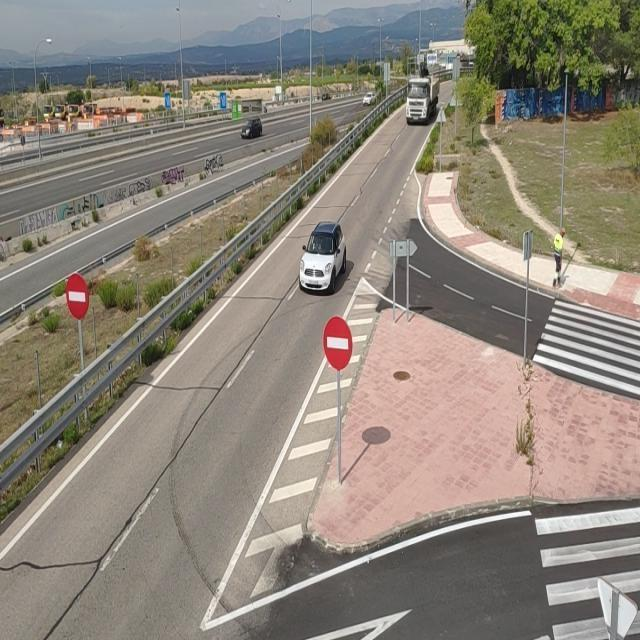Car: (294, 218, 346, 299), (237, 115, 264, 140), (362, 90, 378, 106)
Truck: (404, 74, 441, 125)
